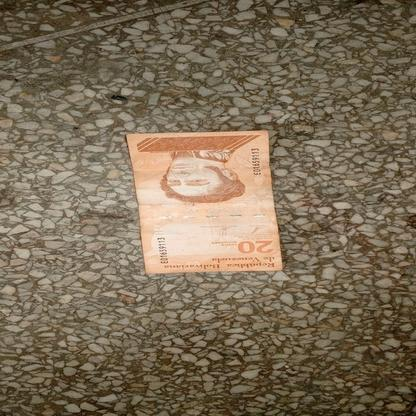twenty-front-vef: (124, 128, 284, 274)
